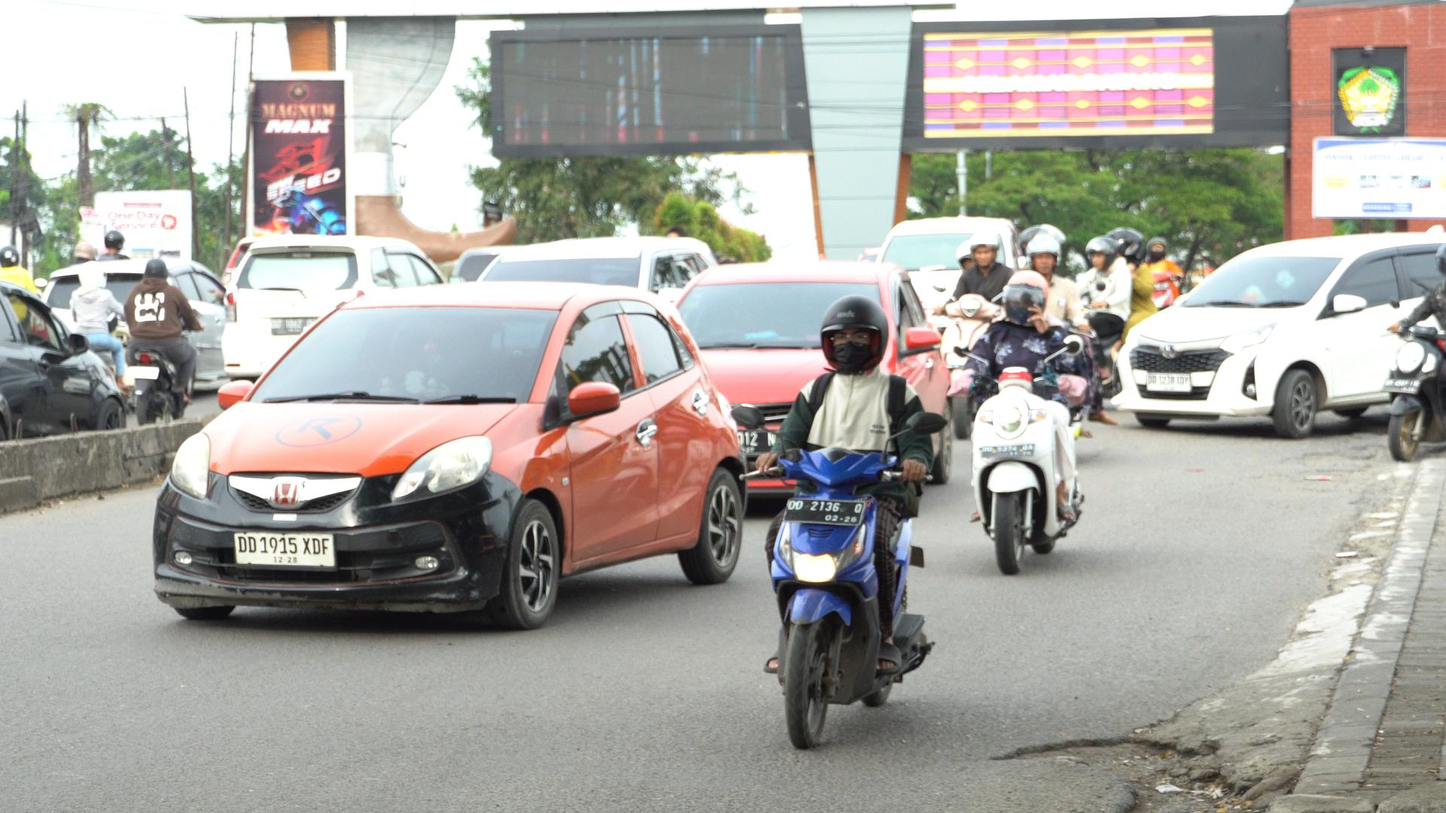number-plate: (783, 489, 866, 532)
